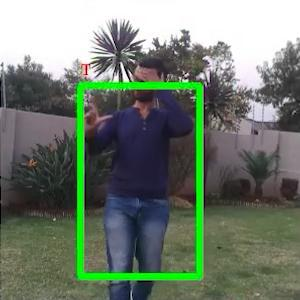land_hand: (80, 94, 114, 134)
